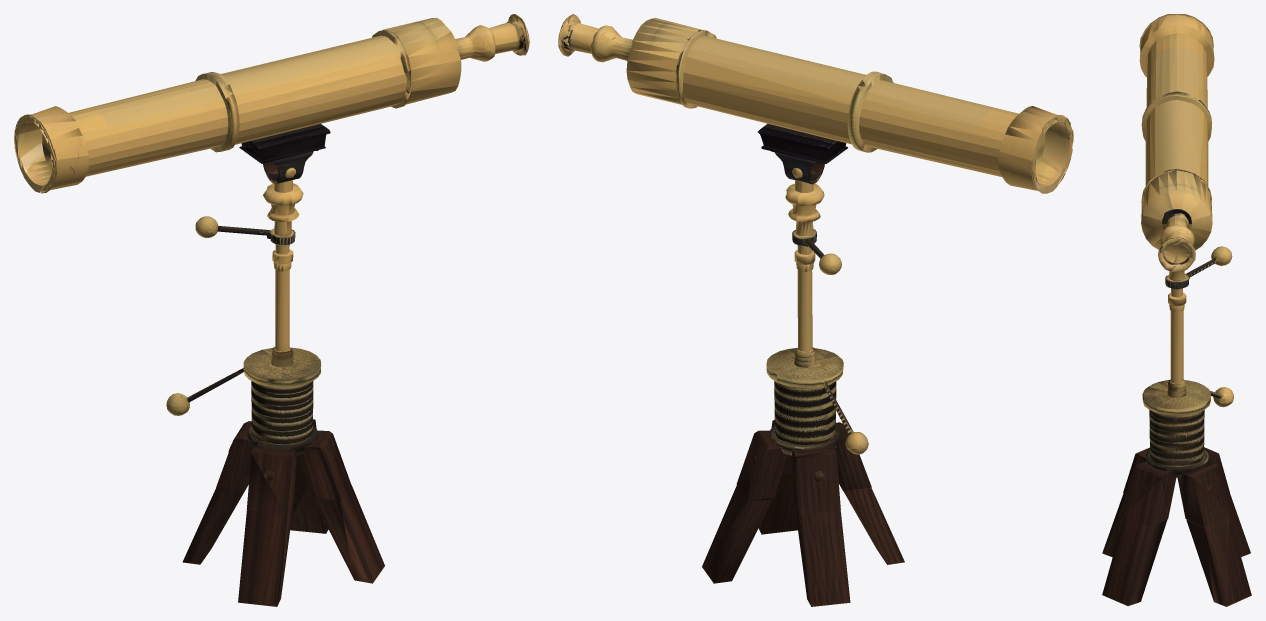
The model's file is telescope.glb.
3 views of the same model, side by side, from view 1: azimuth 30°, elevation 25°; view 2: azimuth 150°, elevation 25°; view 3: azimuth 270°, elevation 25° (orthographic). The views are drawn at different scales.
Size of the model in its own units: 1.6 by 1.6 by 0.4804.
1 material, 1 textured.
